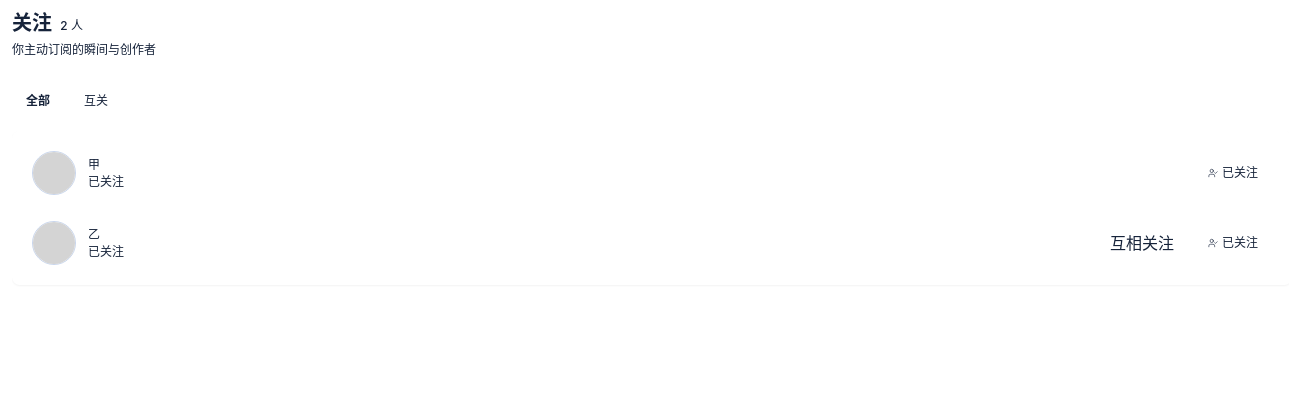
SectionFollowing › 取关全部：空态可达
Click the 1st button "已关注".
click(1233, 173)  # box [1194,157,1272,189]
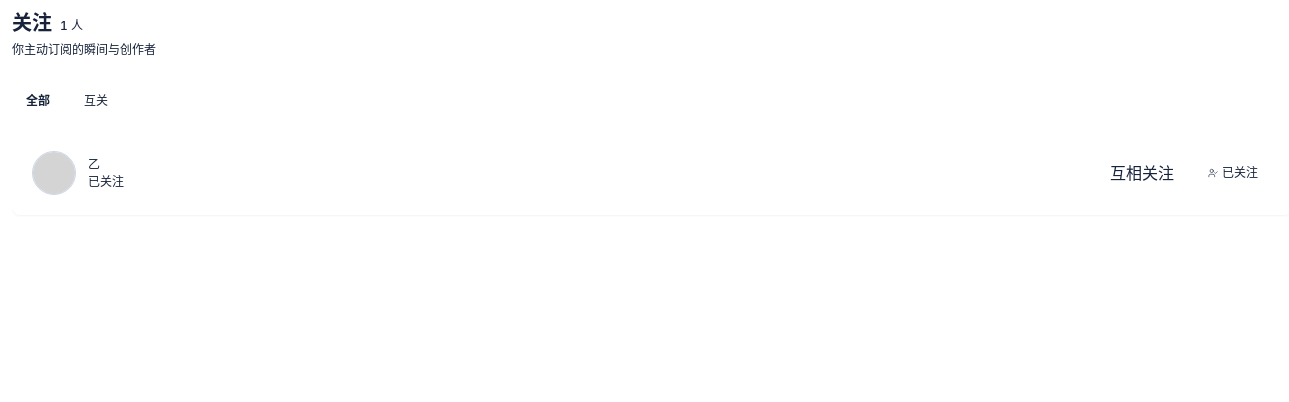
Click the button "已关注".
click(1233, 173)  # box [1194,157,1272,189]
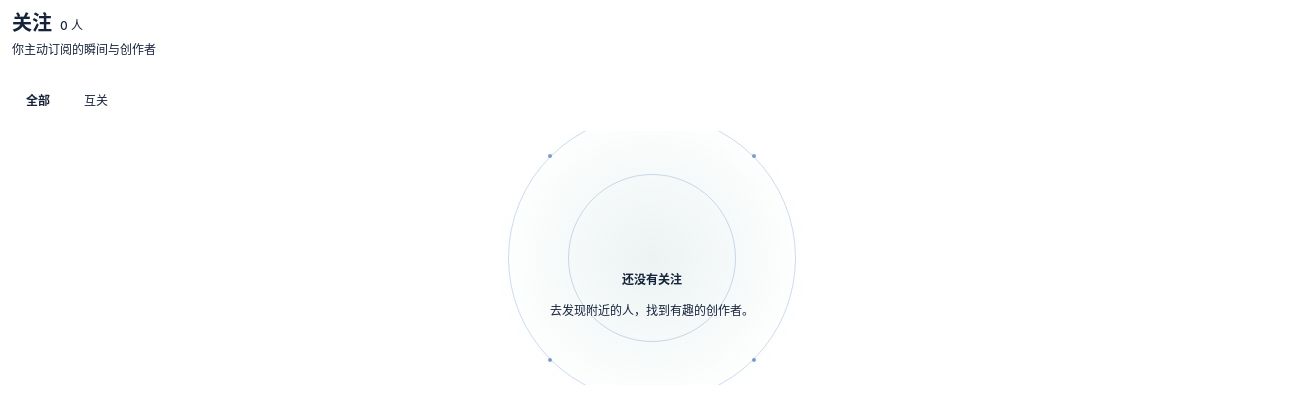
Result: the text "还没有关注" is shown at [622,271,682,289]
Result: the text "0 人" is shown at [60,18,83,34]
